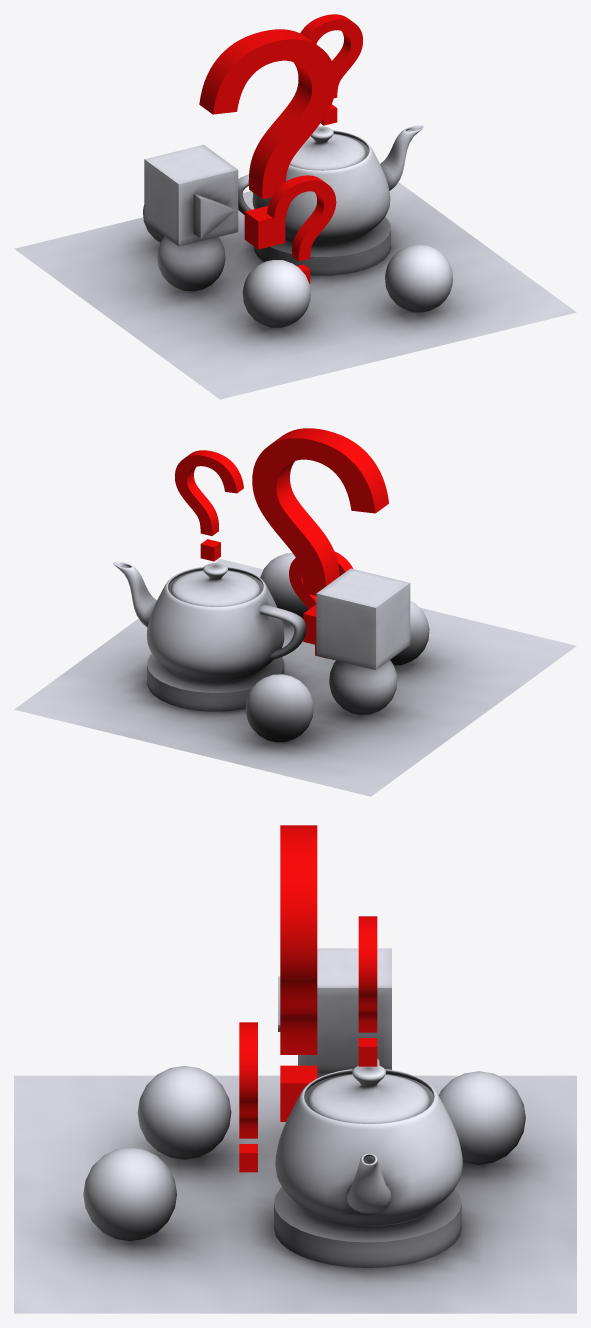
File: parse.autodesk.dae
The picture shows the model from 3 angles, top to bottom: view 1: azimuth 30°, elevation 25°; view 2: azimuth 150°, elevation 25°; view 3: azimuth 270°, elevation 25°; orthographic projection. The views are drawn at different scales.
Parts seen in each view (by area): view 1: groundPlane, notFound_ncl1_2, teapot, box, ball2, ball1, pedestal, ball, notFound_ncl1_1, notFound, Gengon001; view 2: groundPlane, teapot, notFound_ncl1_2, box, pedestal, ball3, notFound, ball, ball2, ball1, notFound_ncl1_1; view 3: groundPlane, teapot, notFound_ncl1_2, pedestal, box, ball2, ball1, ball3, notFound, notFound_ncl1_1.
Part boxes in pixels (<box>): groundPlane: <box>14,182,576,399</box>; notFound_ncl1_2: <box>199,29,336,249</box>; teapot: <box>238,125,423,246</box>; box: <box>144,144,238,246</box>; ball2: <box>385,244,452,312</box>; ball1: <box>242,260,310,327</box>; pedestal: <box>254,217,390,275</box>; ball: <box>157,236,225,291</box>; notFound_ncl1_1: <box>267,175,336,283</box>; notFound: <box>300,14,362,125</box>; Gengon001: <box>193,193,234,239</box>; groundPlane: <box>14,559,576,796</box>; teapot: <box>113,561,306,682</box>; notFound_ncl1_2: <box>252,428,388,644</box>; box: <box>316,568,410,669</box>; pedestal: <box>147,654,284,711</box>; ball3: <box>245,674,313,742</box>; notFound: <box>175,450,243,561</box>; ball: <box>329,660,397,714</box>; ball2: <box>260,553,308,618</box>; ball1: <box>390,601,429,665</box>; notFound_ncl1_1: <box>289,551,353,658</box>; groundPlane: <box>14,1075,576,1313</box>; teapot: <box>275,1058,462,1227</box>; notFound_ncl1_2: <box>280,825,317,1121</box>; pedestal: <box>274,1187,461,1267</box>; box: <box>298,948,391,1072</box>; ball2: <box>83,1147,176,1240</box>; ball1: <box>137,1066,231,1159</box>; ball3: <box>438,1071,525,1164</box>; notFound: <box>358,916,377,1066</box>; notFound_ncl1_1: <box>239,1022,257,1172</box>.
Size of the model in its own units: 6 by 4.01 by 6.
